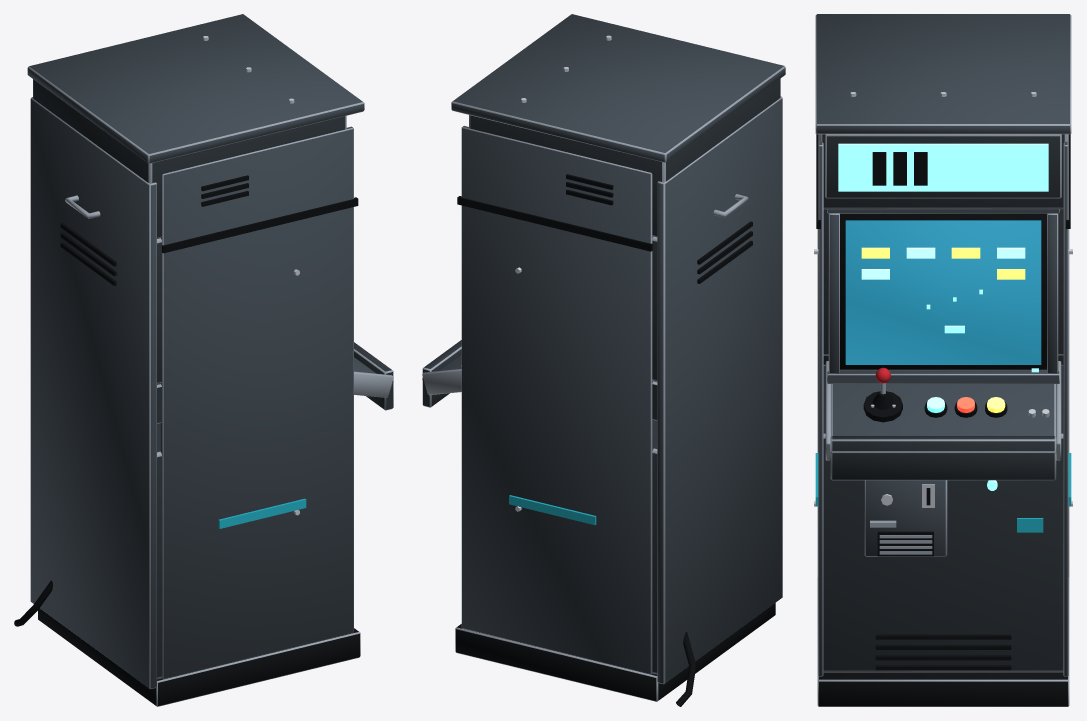
Rendered from prop_recreativa.glb.
The picture shows the model from 3 angles, left to right: view 1: azimuth 30°, elevation 25°; view 2: azimuth 150°, elevation 25°; view 3: azimuth 270°, elevation 25°; orthographic projection. The views are drawn at different scales.
Parts seen in each view (by area): view 1: panel_lateral_1, trasera, tapa_superior, zocalo, cabecera, canto_goma_1, cuerpo_bajo, banda_lateral_1, panel_tapa_lateral_1, cuerpo_pantalla, panel_faldon; view 2: panel_lateral_2, trasera, tapa_superior, zocalo, cabecera, canto_goma_2, cuerpo_bajo, banda_lateral_2, panel_tapa_lateral_2, cuerpo_pantalla, panel_faldon; view 3: cuerpo_bajo, tapa_superior, cristal_pantalla, panel_mandos, panel_faldon, zocalo, marquesina, marco_marquesina, puerta_monedas, hueco_pantalla, cabecera, panel_lateral_1 (+18 smaller).
Part boxes in pixels (left/top/right/bottom): panel_lateral_1: left=160, top=126, right=353, bottom=679; trasera: left=30, top=97, right=156, bottom=689; tapa_superior: left=27, top=14, right=364, bottom=163; zocalo: left=38, top=608, right=360, bottom=706; cabecera: left=33, top=79, right=346, bottom=238; canto_goma_1: left=162, top=197, right=358, bottom=253; cuerpo_bajo: left=157, top=423, right=162, bottom=679; banda_lateral_1: left=218, top=498, right=306, bottom=528; panel_tapa_lateral_1: left=354, top=371, right=393, bottom=397; cuerpo_pantalla: left=157, top=238, right=162, bottom=384; panel_faldon: left=354, top=342, right=393, bottom=410; panel_lateral_2: left=461, top=126, right=653, bottom=674; trasera: left=657, top=96, right=782, bottom=684; tapa_superior: left=451, top=14, right=785, bottom=162; zocalo: left=455, top=603, right=775, bottom=701; cabecera: left=469, top=78, right=780, bottom=237; canto_goma_2: left=457, top=196, right=652, bottom=251; cuerpo_bajo: left=652, top=420, right=657, bottom=674; banda_lateral_2: left=509, top=495, right=596, bottom=525; panel_tapa_lateral_2: left=422, top=369, right=461, bottom=395; cuerpo_pantalla: left=652, top=236, right=657, bottom=381; panel_faldon: left=422, top=340, right=461, bottom=407; cuerpo_bajo: left=823, top=365, right=1063, bottom=672; tapa_superior: left=815, top=14, right=1071, bottom=134; cristal_pantalla: left=845, top=220, right=1041, bottom=364; panel_mandos: left=830, top=369, right=1056, bottom=453; panel_faldon: left=830, top=436, right=1056, bottom=480; zocalo: left=817, top=577, right=1069, bottom=706; marquesina: left=838, top=143, right=1048, bottom=191; marco_marquesina: left=825, top=134, right=1061, bottom=198; puerta_monedas: left=864, top=480, right=947, bottom=556; hueco_pantalla: left=840, top=213, right=1046, bottom=369; cabecera: left=819, top=134, right=1067, bottom=209; panel_lateral_1: left=818, top=134, right=823, bottom=676.
Size of the model in its own units: 0.8736 by 1.72 by 0.688.
